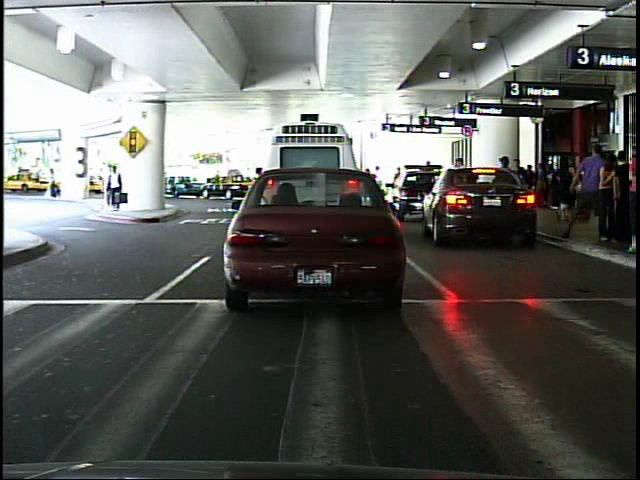person: (97, 157, 131, 214), (49, 164, 64, 203)
